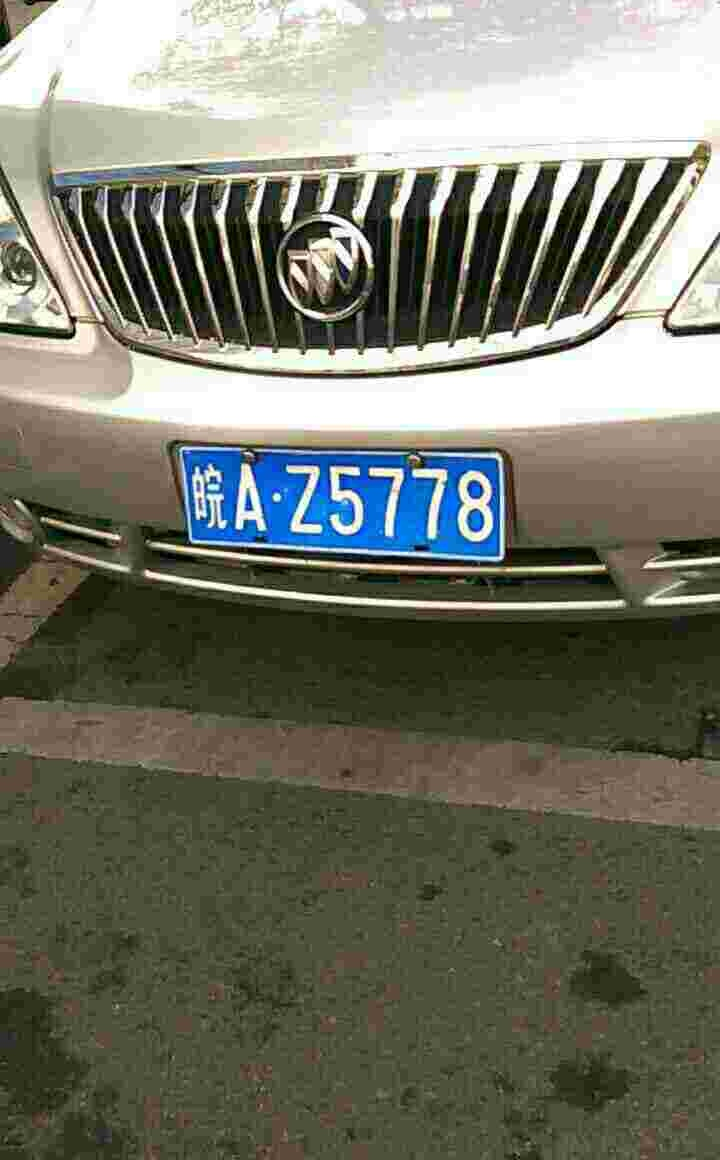license_plate: (171, 452, 520, 549)
